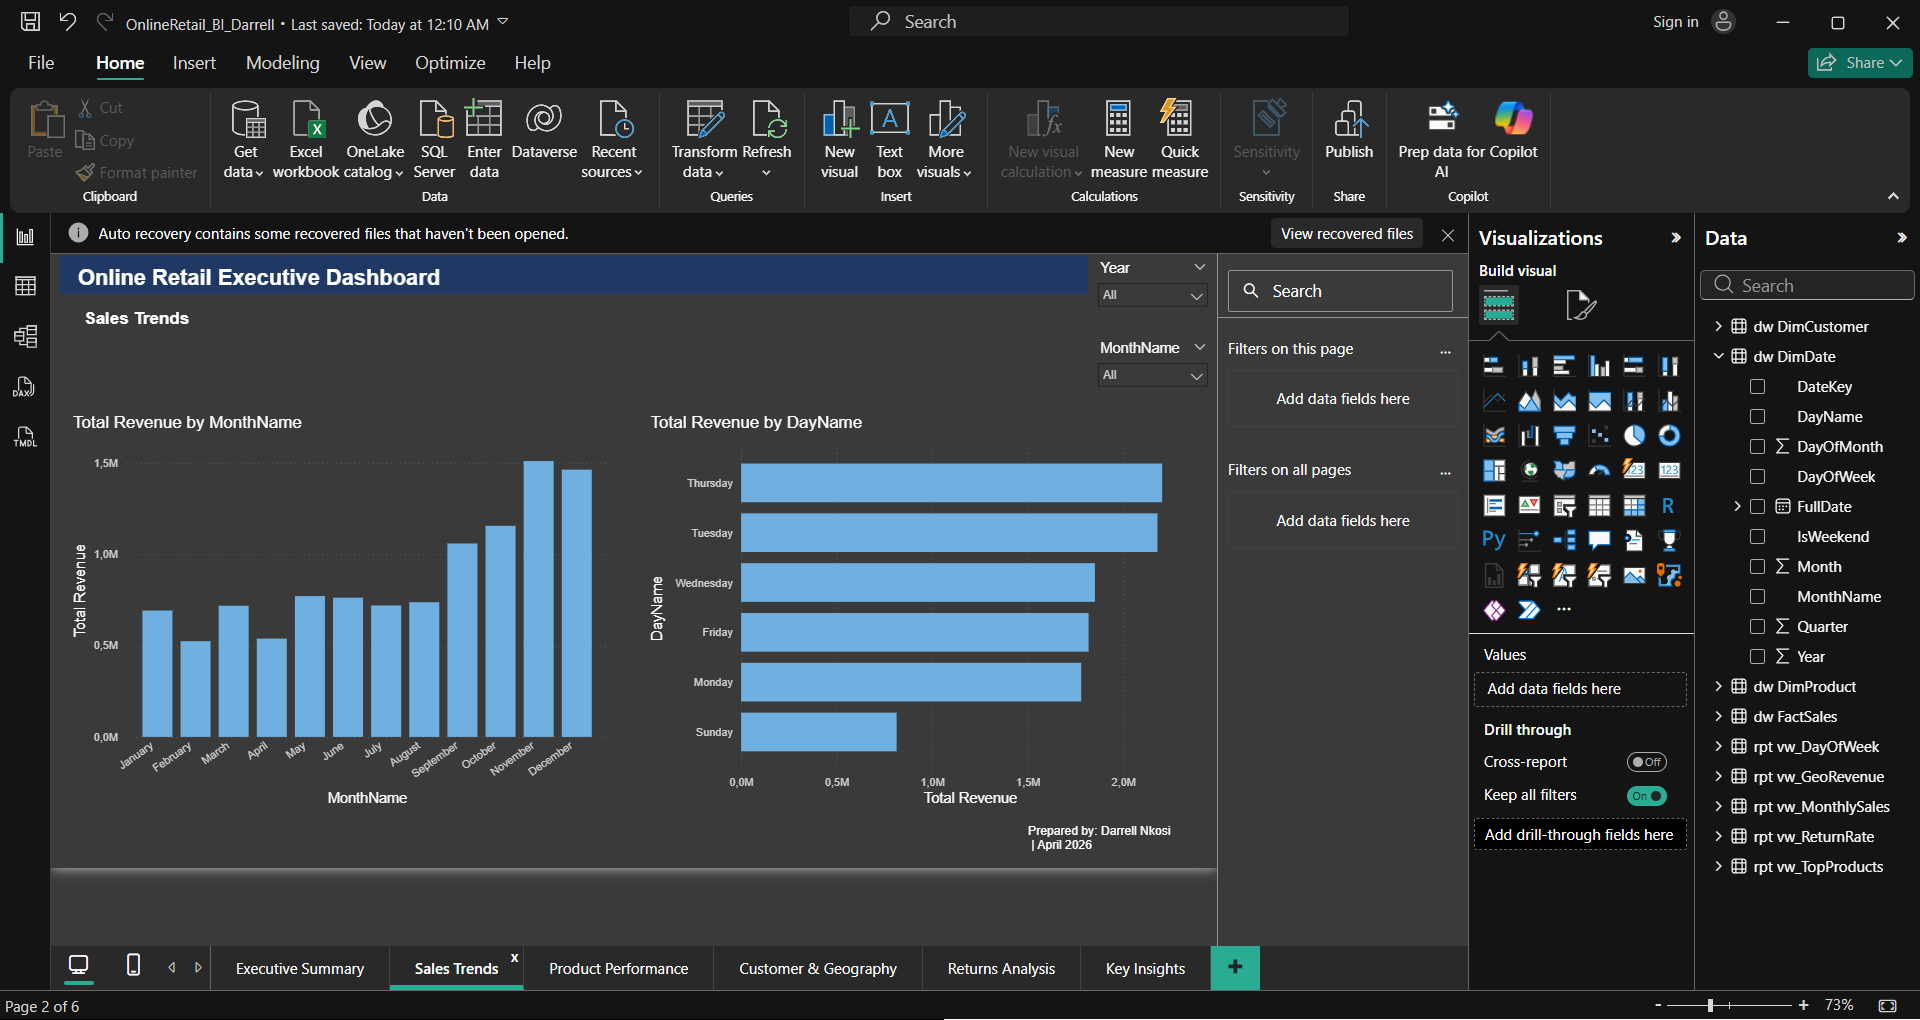

Layout of this report page (visuals, bound fields, positions):
{"tool":"powerbi","page":{"name":"Sales Trends","canvas":[1280,720],"ordinal":1},"visuals":[{"type":"clusteredColumnChart","fields":{"Category":["dw DimDate.MonthName"],"Y":["dw FactSales.Total Revenue"]},"box":[19.2,219.6,596.9,436.4],"z":0},{"type":"clusteredBarChart","fields":{"Category":["dw DimDate.DayName"],"Y":["dw FactSales.Total Revenue"]},"box":[653.2,219.6,627.1,436.4],"z":1000},{"type":"textbox","box":[9.6,46.7,1269.3,42.5],"z":2000},{"type":"textbox","box":[31.6,100.2,1247.3,48],"z":3000},{"type":"slicer","fields":{"Values":["dw DimDate.Year"]},"box":[1138.7,46.7,141.3,87.8],"z":4000},{"type":"slicer","fields":{"Values":["dw DimDate.MonthName"]},"box":[1138.7,134.5,141.3,85.1],"z":5000},{"type":"textbox","box":[1067.3,665.1,212.7,54.9],"z":6000}]}

Visuals, with their boxes on the page's 1280x720 design canvas (x1, y1, x2, y2). These are canvas units, not pixel positions in the 1920x1020 screenshot, which may show the page scaled, cropped or inside an application window:
clusteredColumnChart - dw DimDate.MonthName x dw FactSales.Total Revenue: box(19, 220, 616, 656)
clusteredBarChart - dw DimDate.DayName x dw FactSales.Total Revenue: box(653, 220, 1280, 656)
textbox: box(10, 47, 1279, 89)
textbox: box(32, 100, 1279, 148)
slicer - dw DimDate.Year: box(1139, 47, 1280, 134)
slicer - dw DimDate.MonthName: box(1139, 134, 1280, 220)
textbox: box(1067, 665, 1280, 720)
